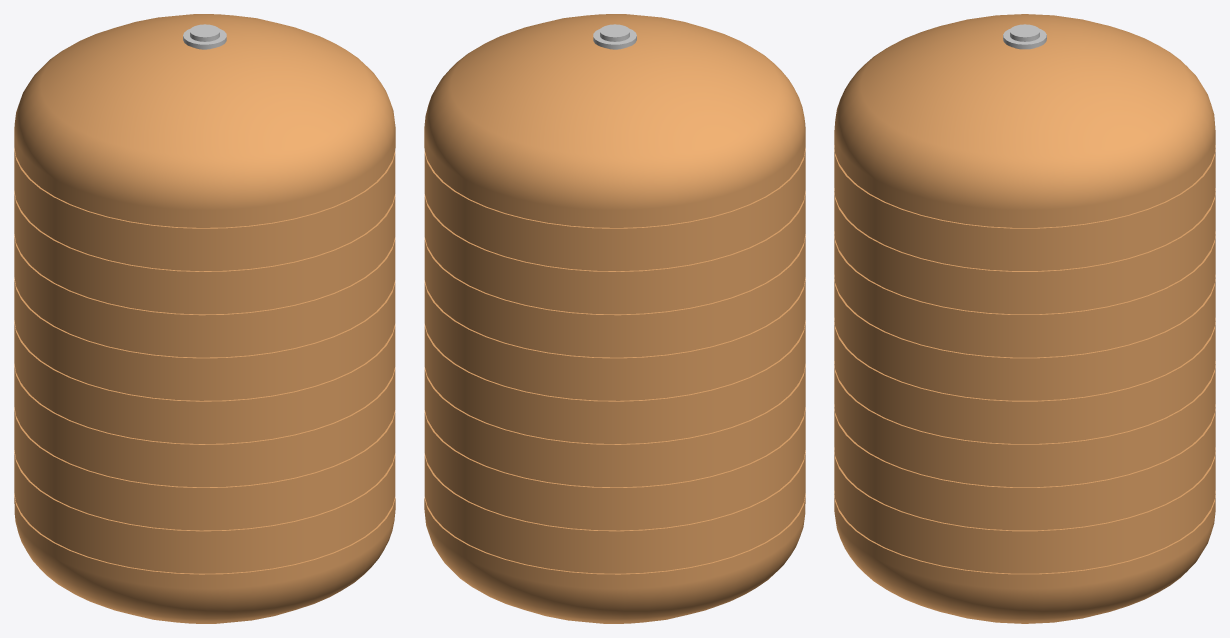
Rendered from inner-tank-h2-m.glb.
3 views of the same model, side by side, from view 1: azimuth 30°, elevation 25°; view 2: azimuth 150°, elevation 25°; view 3: azimuth 270°, elevation 25° (orthographic).
Parts seen in each view (by area): view 1: tank, fittings; view 2: tank, fittings; view 3: tank, fittings.
Part boxes in pixels (x1=…): tank: x1=14, y1=14, x2=395, y2=623; fittings: x1=183, y1=24, x2=226, y2=49; tank: x1=424, y1=14, x2=805, y2=623; fittings: x1=593, y1=24, x2=636, y2=49; tank: x1=834, y1=14, x2=1215, y2=623; fittings: x1=1003, y1=24, x2=1046, y2=49.
Bounding box in the file's own units: 2.4 × 4 × 2.4.
